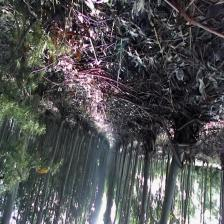trunk: (38, 119, 63, 215), (160, 144, 184, 222), (61, 119, 80, 190), (139, 152, 151, 222), (184, 162, 191, 219)
